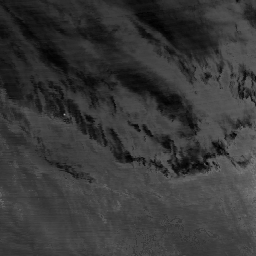Target: (62, 112, 67, 116)
